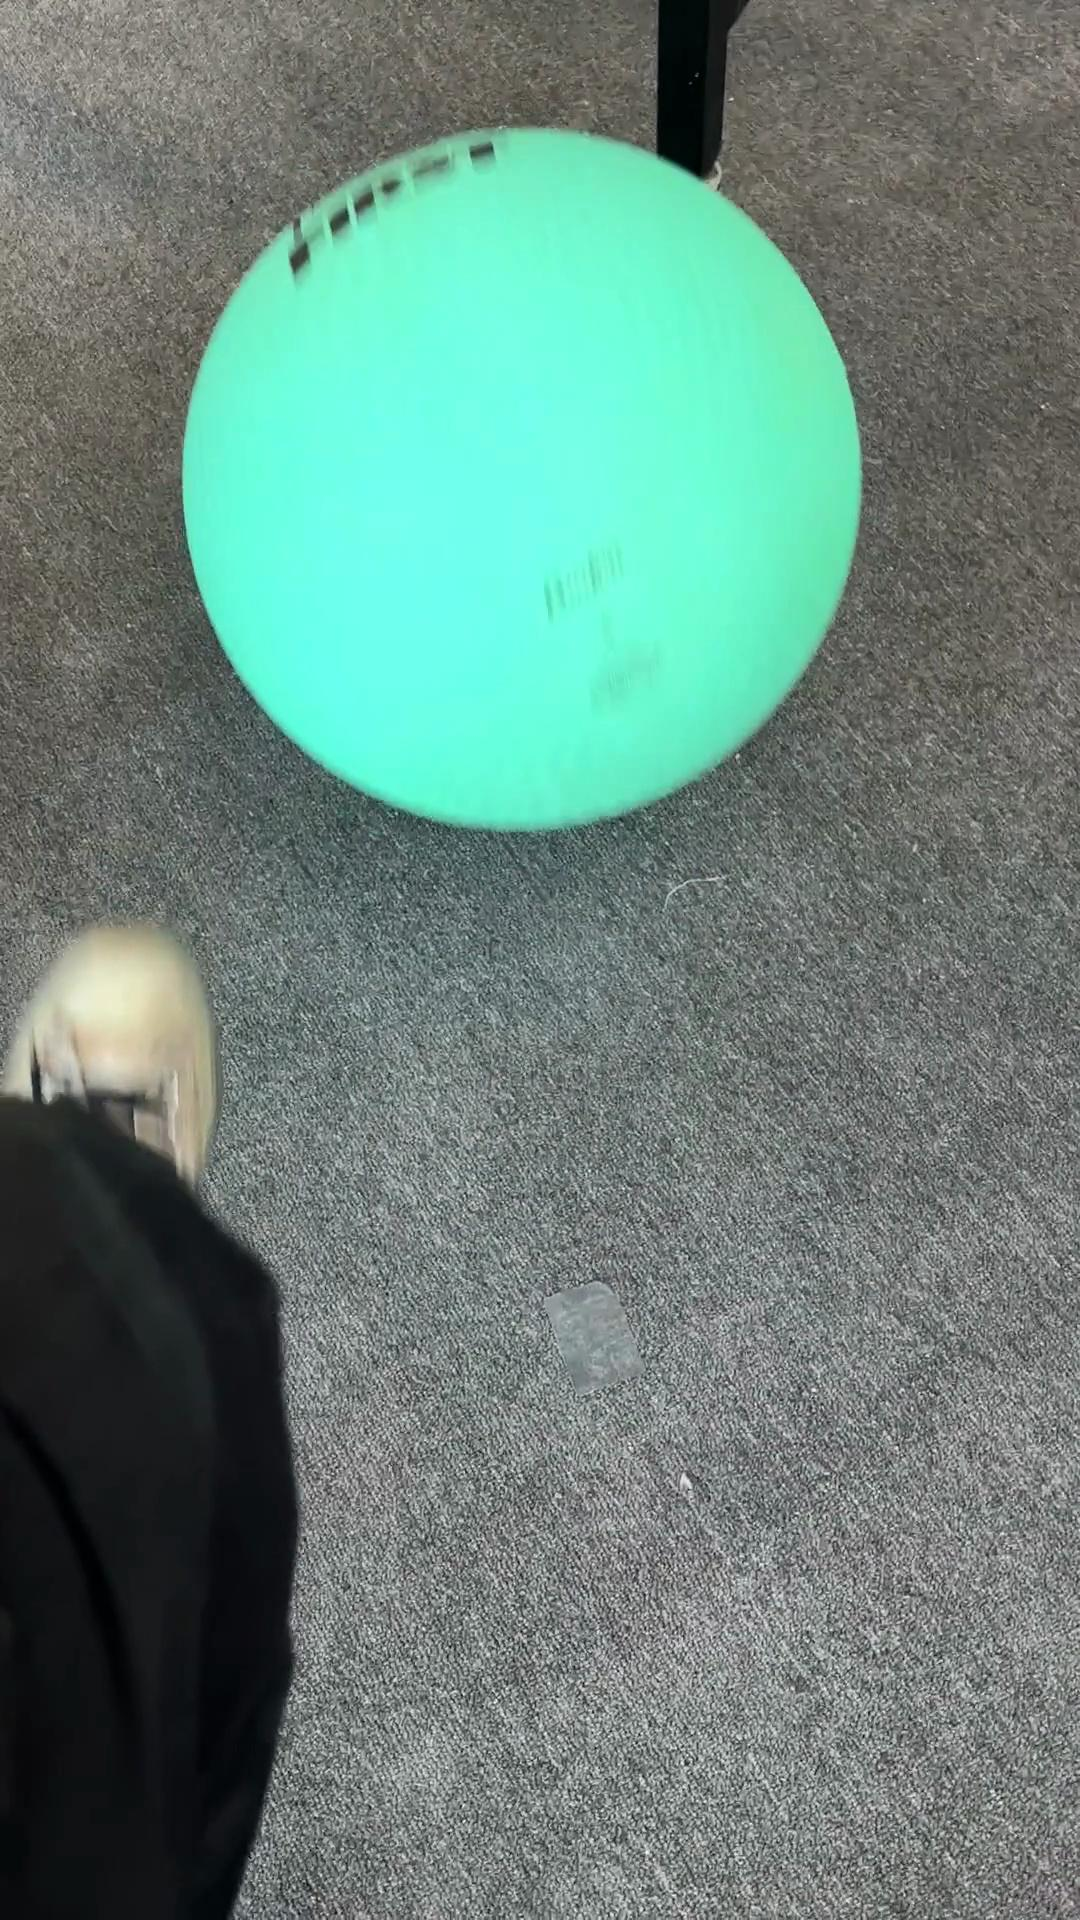ALGAE: (177, 122, 864, 833)
